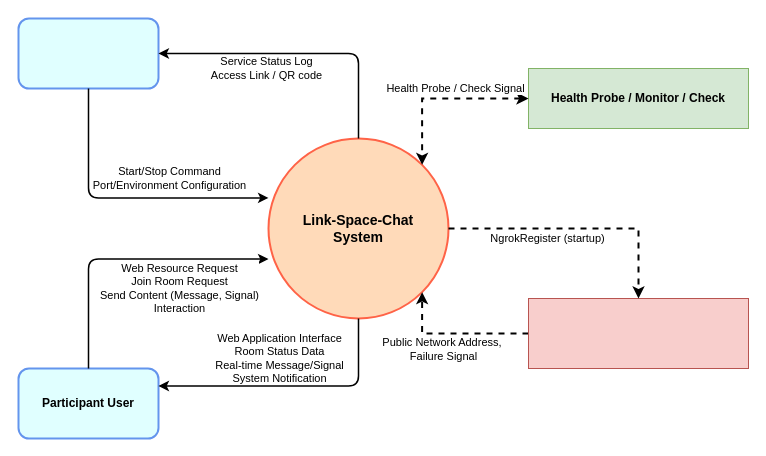
Image size: 766x456. Some labels were removed from this diagram. Each missing label, with the centre of its shape:
Host User: the point at 88,53
Ngrok Tunnel Service (startup registration only): the point at 638,333
